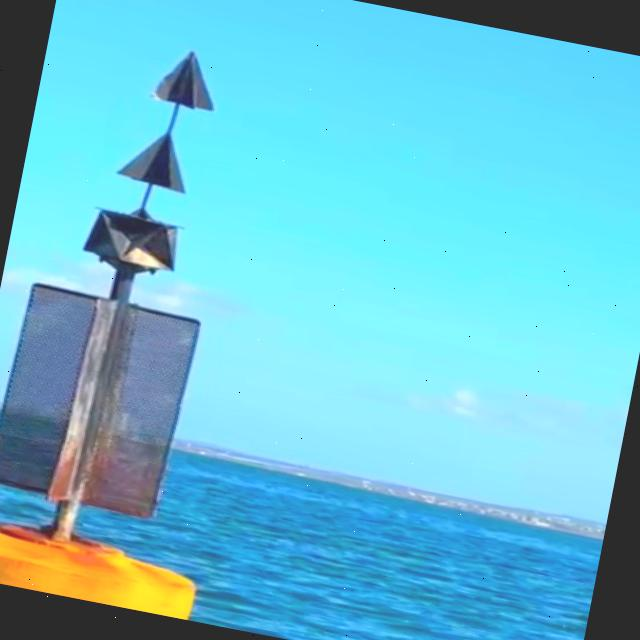marque: (1, 22, 292, 620)
